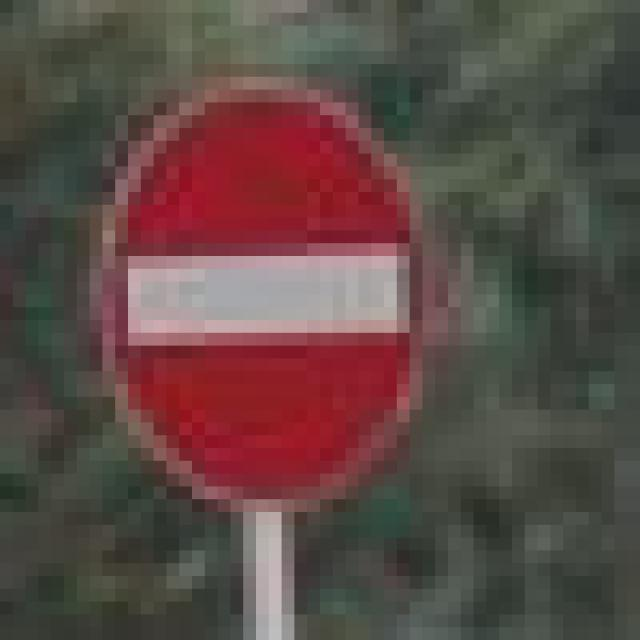NO_ENTRY: (77, 64, 422, 499)
